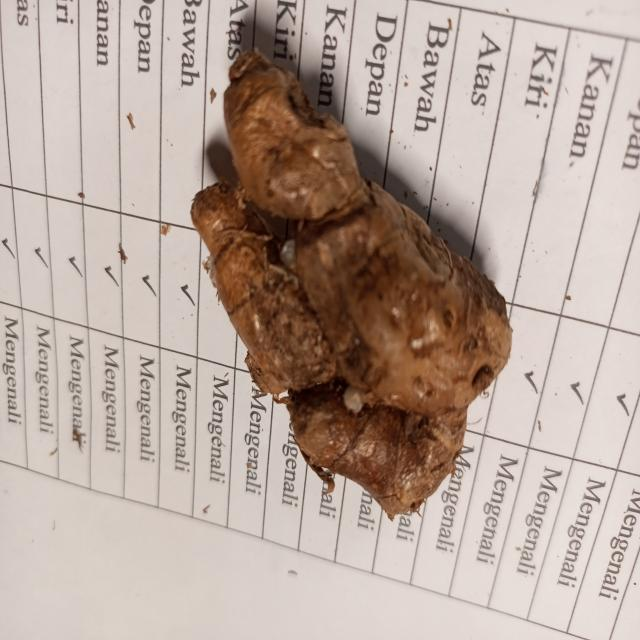ginger: (200, 62, 500, 502)
